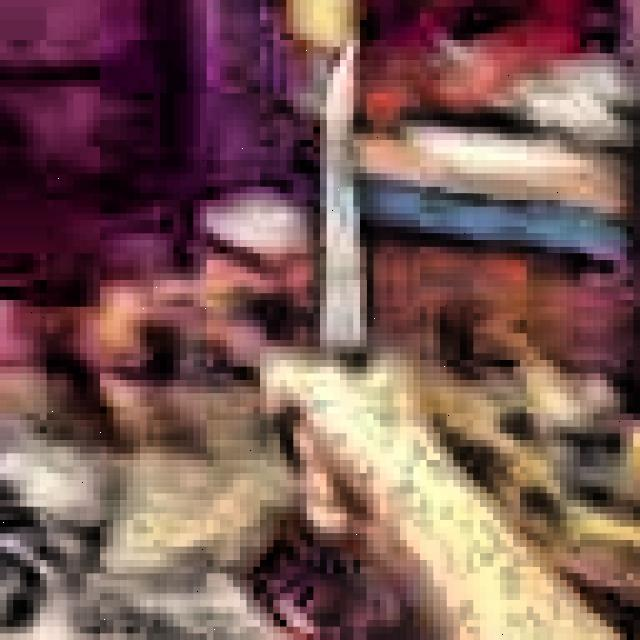knife: (318, 44, 372, 548)
